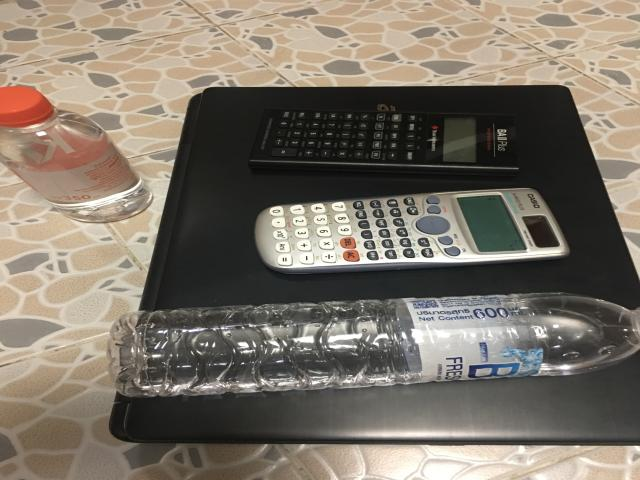bottle: (108, 292, 638, 398), (0, 86, 152, 222)
